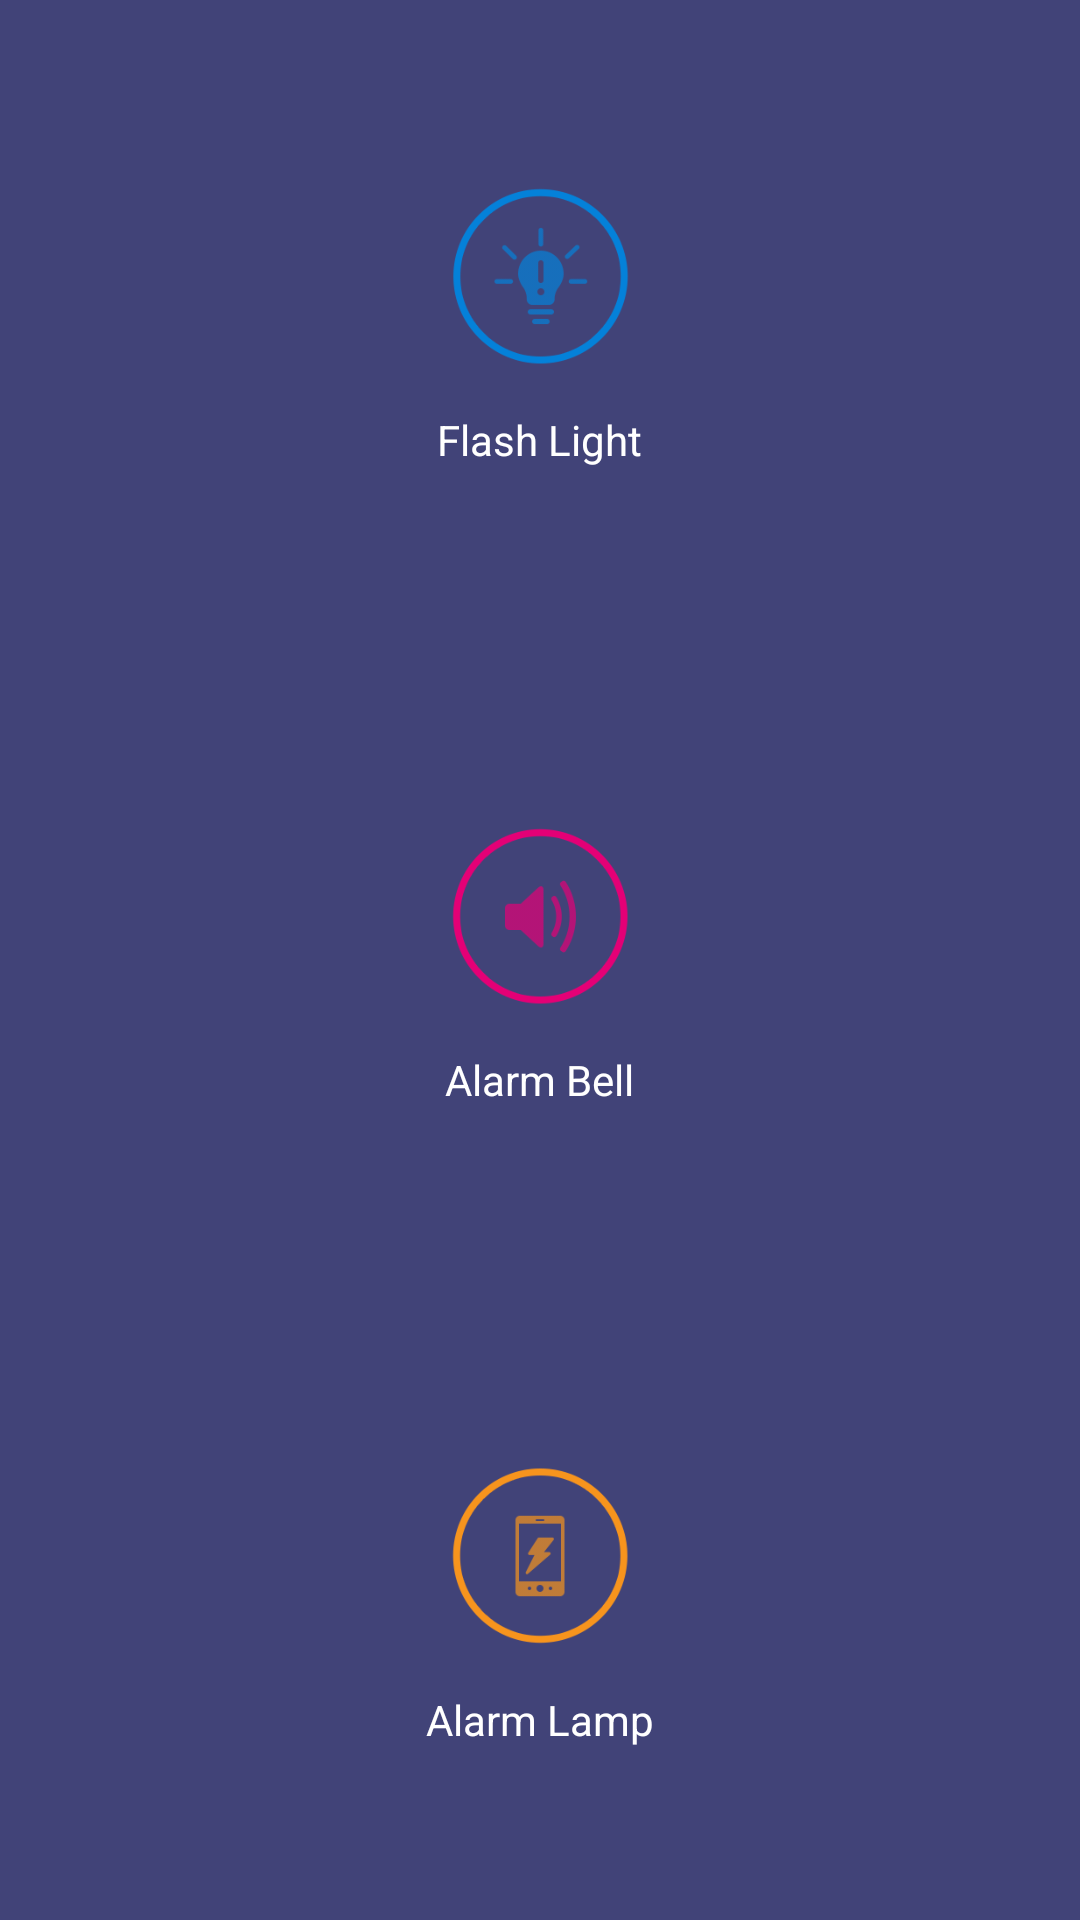

Icons on this 1080×1920 Android screen, each with its box as (x1, y1, x2, y2):
screenflash one: (452, 1468, 628, 1643)
